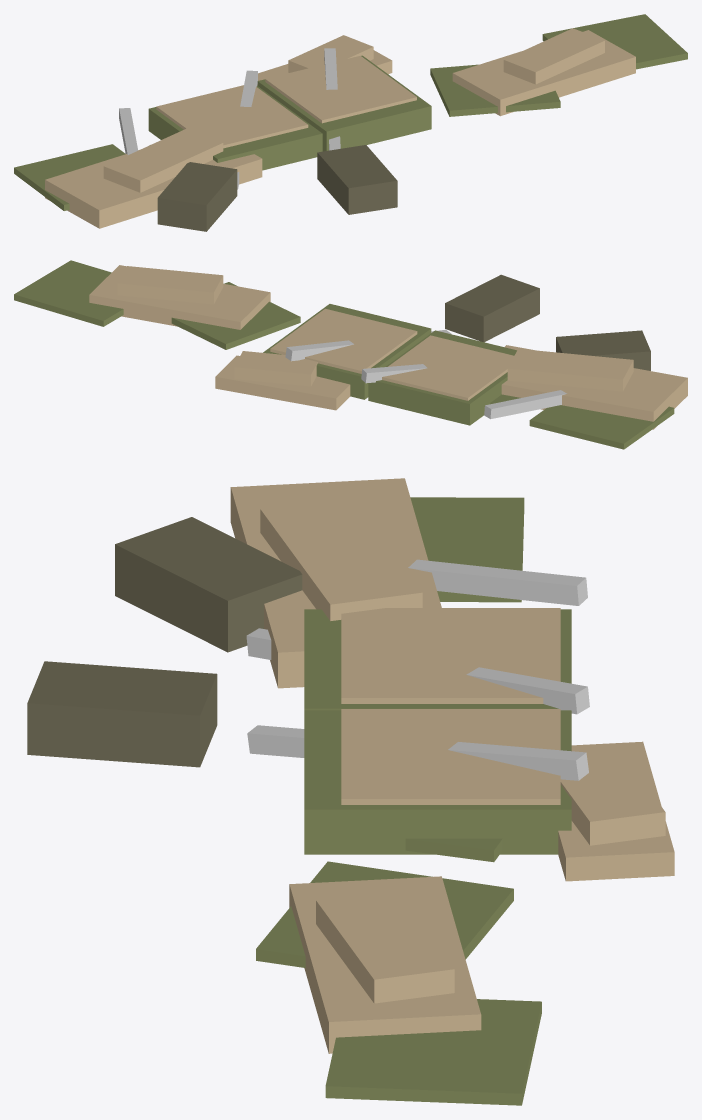
The model's file is SM_HescoCorto3_v3_RemateSacos_e3_Brecha_LOD1.fbx.
The picture shows the model from 3 angles, top to bottom: view 1: azimuth 30°, elevation 25°; view 2: azimuth 150°, elevation 25°; view 3: azimuth 270°, elevation 25°; orthographic projection. The views are drawn at different scales.
Parts seen in each view (by area): view 1: SM_hesco_piezas_v95_LOD1; view 2: SM_hesco_piezas_v95_LOD1; view 3: SM_hesco_piezas_v95_LOD1.
Part boxes in pixels (x1=…): SM_hesco_piezas_v95_LOD1: x1=14, y1=14, x2=687, y2=231; SM_hesco_piezas_v95_LOD1: x1=14, y1=260, x2=687, y2=449; SM_hesco_piezas_v95_LOD1: x1=27, y1=478, x2=674, y2=1105.
Bounding box in the file's own units: 6.44 × 0.351 × 2.95.
